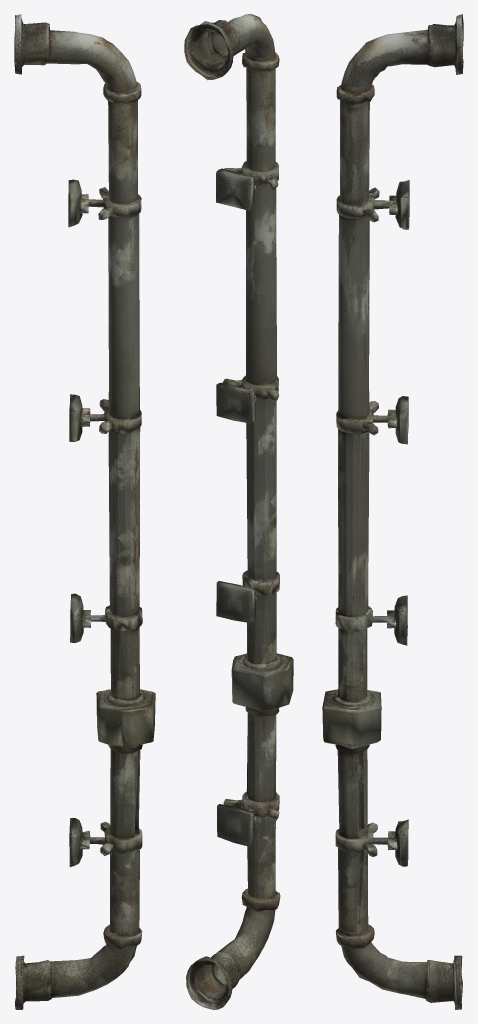
The model's file is pipe.fbx.
The picture shows the model from 3 angles, left to right: view 1: azimuth 90°, elevation 25°; view 2: azimuth 150°, elevation 25°; view 3: azimuth 270°, elevation 25°; orthographic projection.
Visible parts, largest first — view 1: mesh_node; view 2: mesh_node; view 3: mesh_node.
Boxes of the visible parts, x1,y1,x2,y2 form: mesh_node: (14, 14, 155, 1009); mesh_node: (184, 14, 293, 1009); mesh_node: (322, 14, 463, 1009).
Size of the model in its own units: 11.67 by 200 by 25.88.
Materials: 1 (1 with a texture image).
